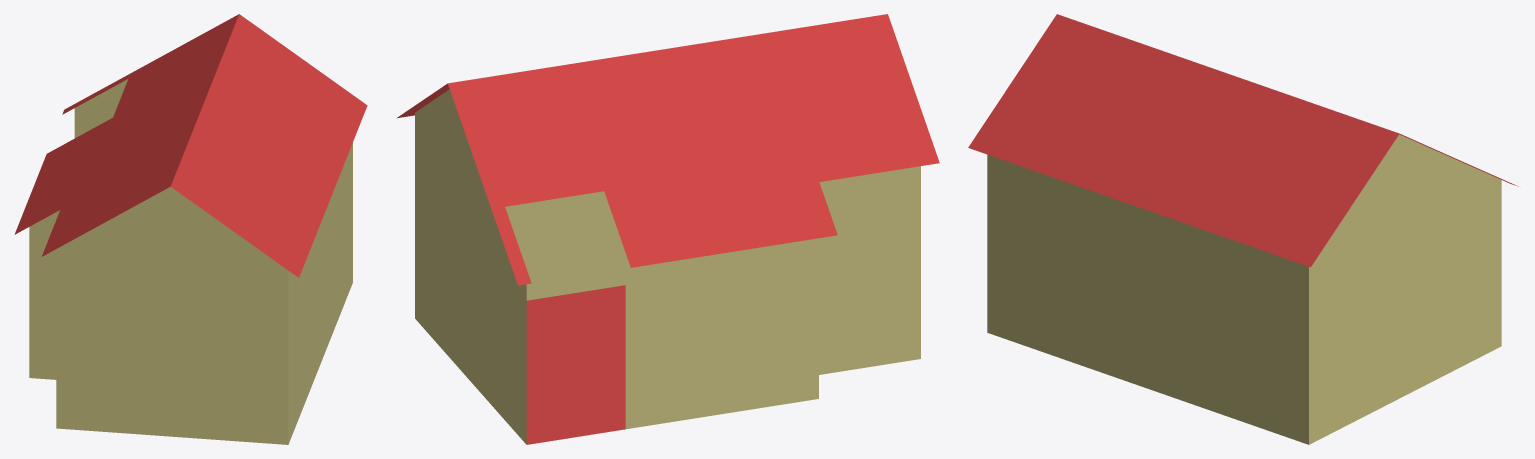
3 renders of one model, left to right at view 1: azimuth 30°, elevation 25°; view 2: azimuth 150°, elevation 25°; view 3: azimuth 270°, elevation 25°, orthographic. The views are drawn at different scales.
Bounding box in the file's own units: 18.12 × 20.08 × 10.98.
